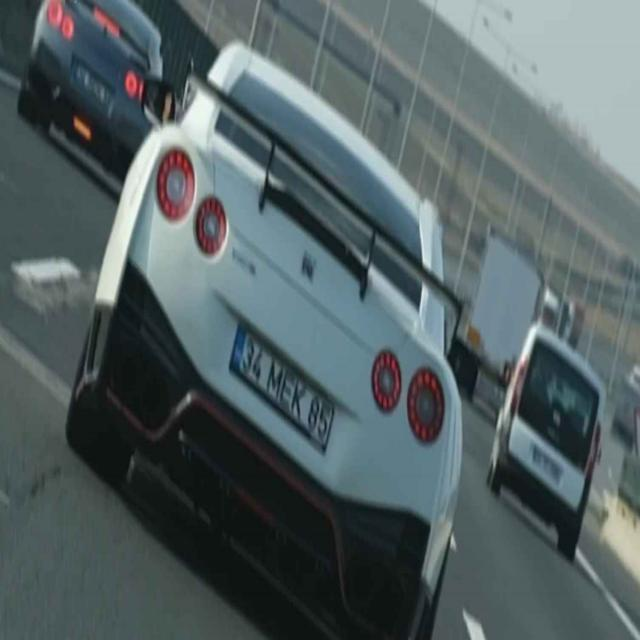plate: (229, 317, 336, 452), (71, 58, 113, 114), (531, 445, 564, 487)
